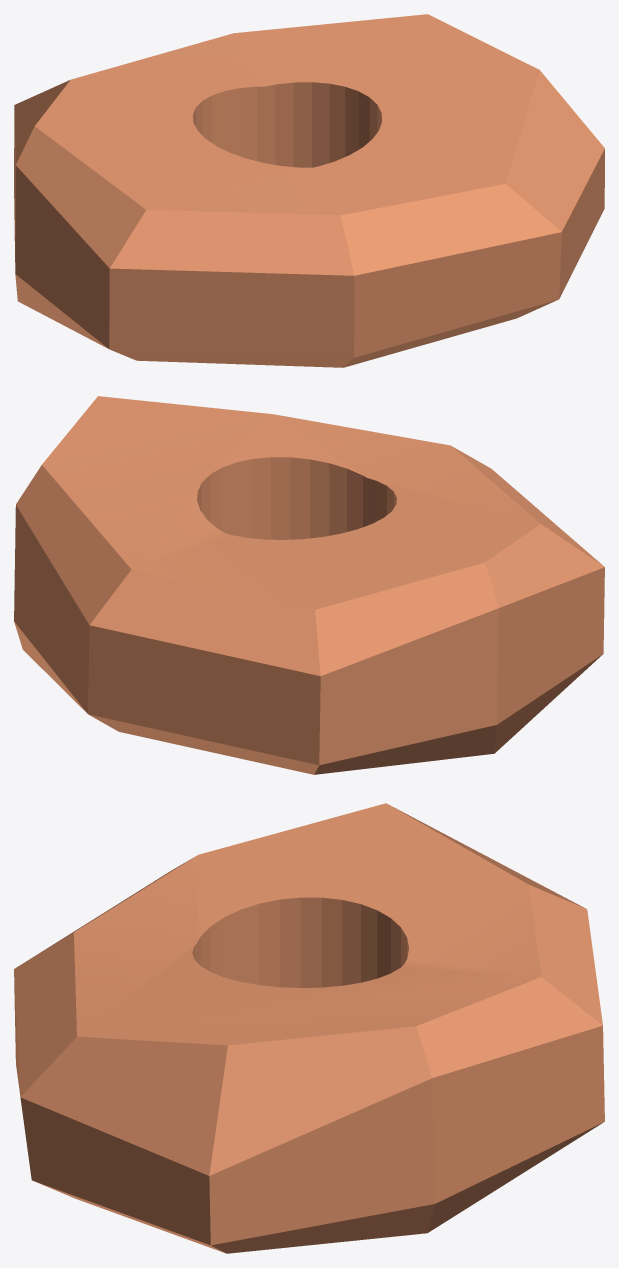
The model's file is HoledStone02.fbx.
3 views of the same model, one above another, from view 1: azimuth 30°, elevation 25°; view 2: azimuth 150°, elevation 25°; view 3: azimuth 270°, elevation 25° (orthographic). The views are drawn at different scales.
Parts seen in each view (by area): view 1: Stone002; view 2: Stone002; view 3: Stone002.
Boxes of the visible parts, x1=… form: Stone002: x1=14, y1=14, x2=604, y2=367; Stone002: x1=14, y1=396, x2=604, y2=774; Stone002: x1=14, y1=803, x2=604, y2=1253.
Bounding box in the file's own units: 1248 × 423 × 1091.
